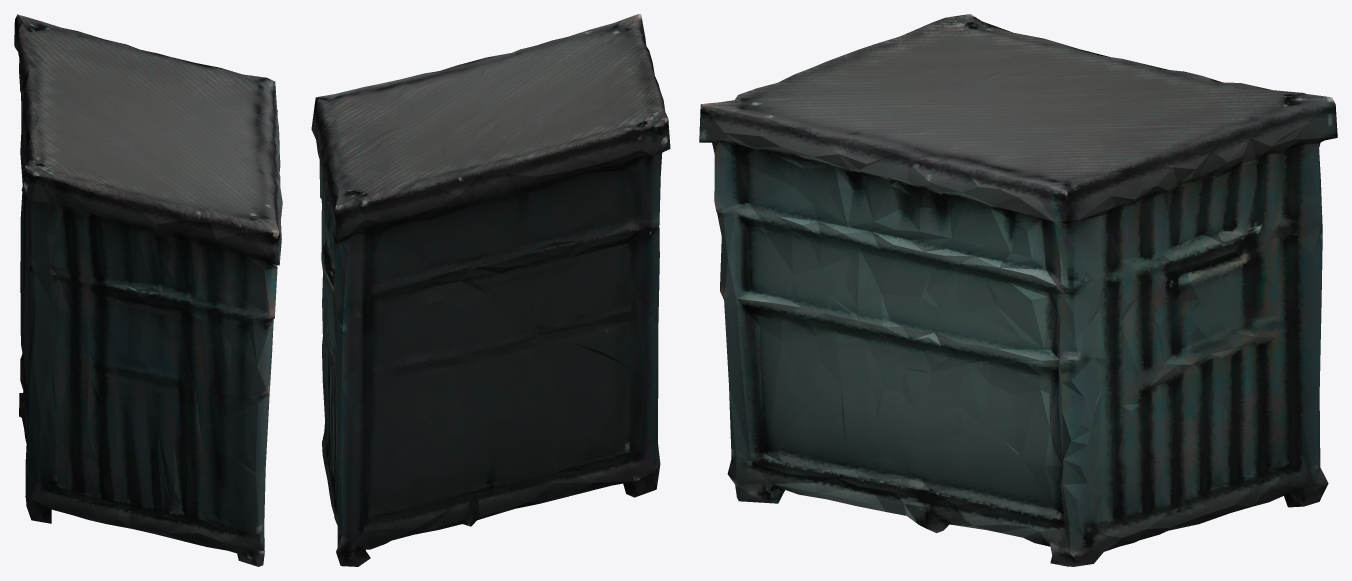
File: dumpster.obj
3 renders of one model, left to right at view 1: azimuth 30°, elevation 25°; view 2: azimuth 150°, elevation 25°; view 3: azimuth 270°, elevation 25°, orthographic. The views are drawn at different scales.
Bounding box in the file's own units: 1.1 × 1.3 × 1.8.
1 material, 1 textured.
